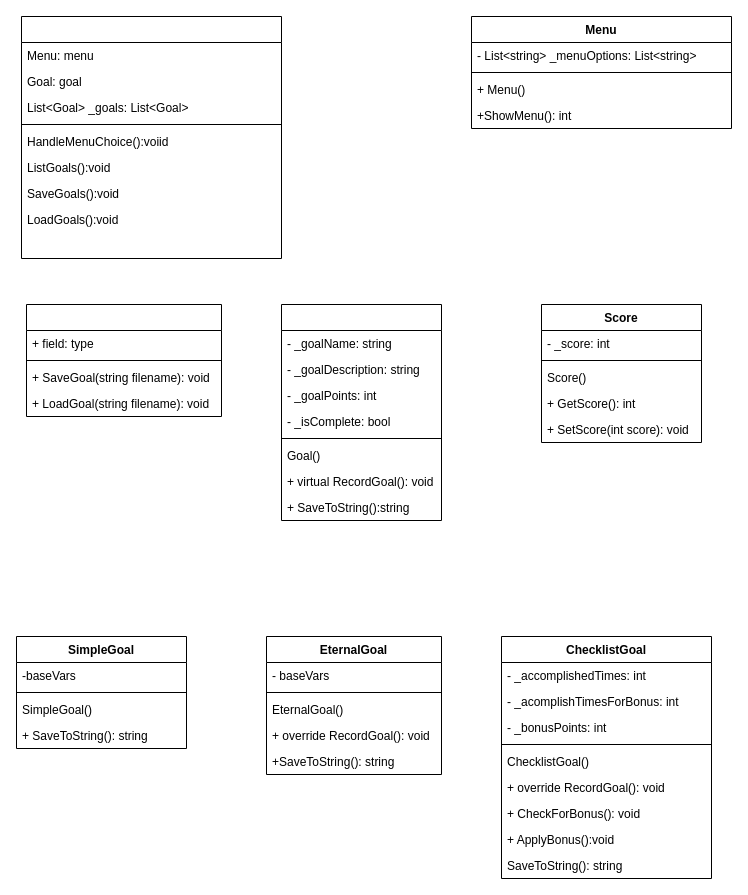
Image size: 748x895. Some labels were removed from this diagram. The box of each missing label's shape, as (x1, y1, x2, y2) in pixels:
abstract Goal: (280, 304, 442, 520)
GoalIO: (26, 304, 222, 416)
Program: (20, 16, 282, 258)
